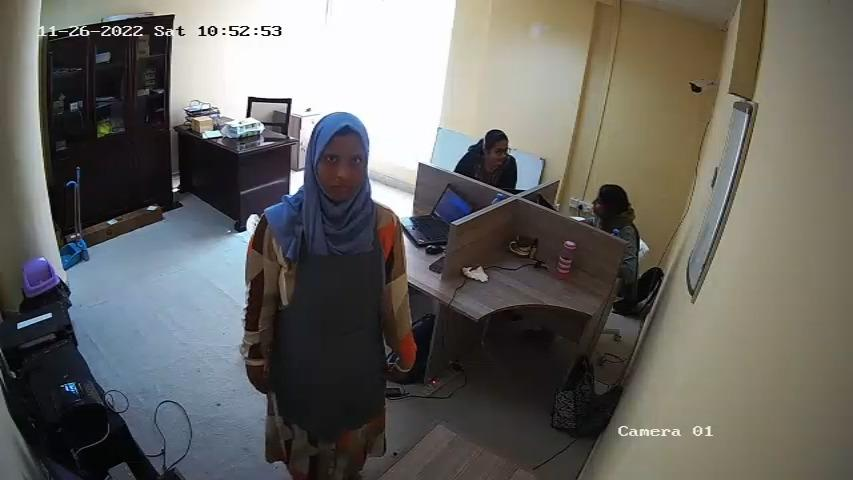apron: (272, 209, 389, 435)
